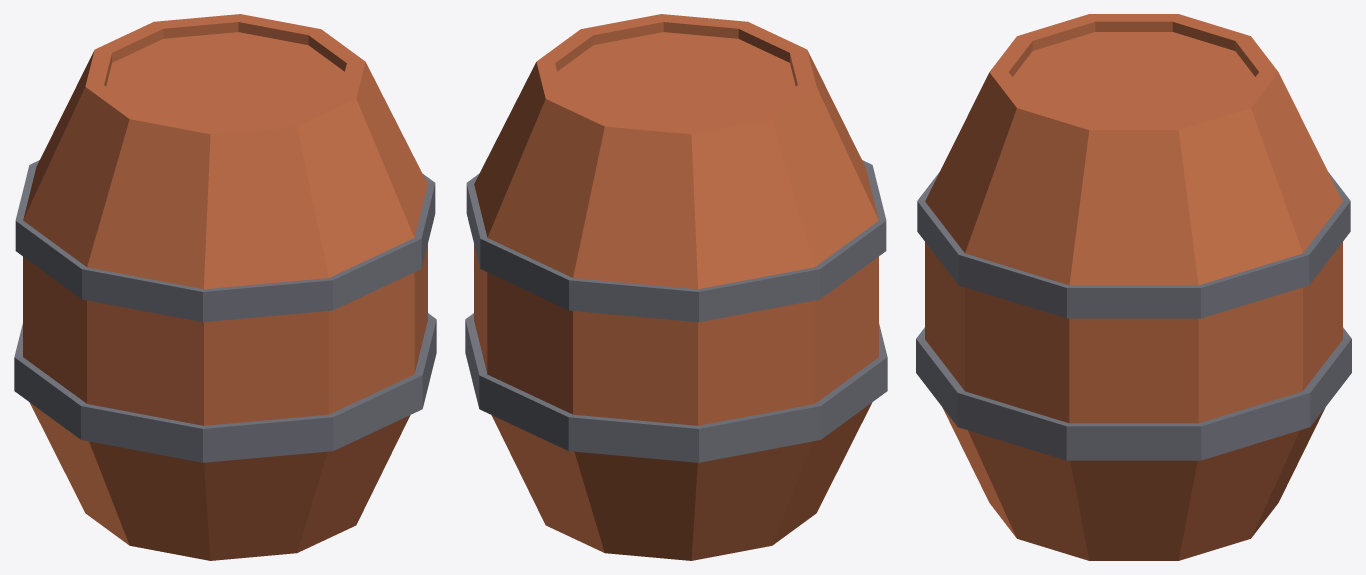
The model's file is barril.fbx.
3 views of the same model, side by side, from view 1: azimuth 30°, elevation 25°; view 2: azimuth 150°, elevation 25°; view 3: azimuth 270°, elevation 25° (orthographic).
Visible parts, largest first — view 1: Cilindro; view 2: Cilindro; view 3: Cilindro.
Boxes of the visible parts, x1,y1,x2,y2 form: Cilindro: (14,14,436,560); Cilindro: (465,14,887,560); Cilindro: (916,14,1351,560).
Bounding box in the file's own units: 159 × 182 × 167.
